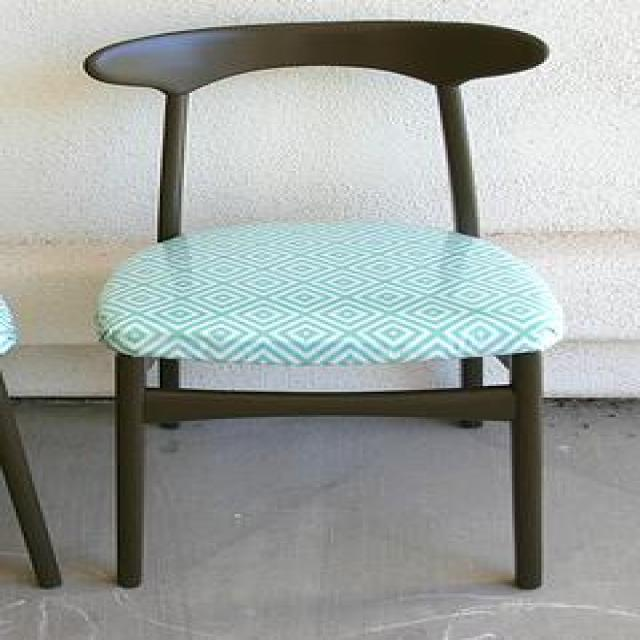chair: (89, 22, 562, 591)
